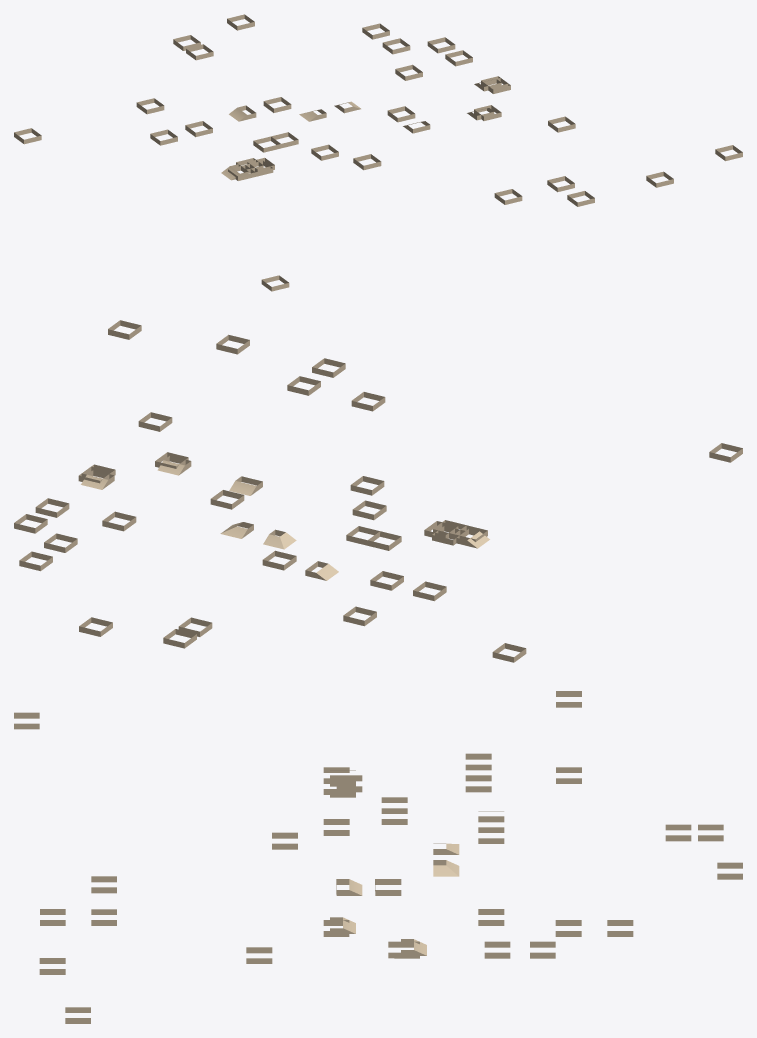
Rendered from object_48_lev1_lev2.glb.
3 renders of one model, top to bottom at view 1: azimuth 30°, elevation 25°; view 2: azimuth 150°, elevation 25°; view 3: azimuth 270°, elevation 25°, orthographic. The views are drawn at different scales.
Visible parts, largest first — view 1: object_48_lev1_lev2; view 2: object_48_lev1_lev2; view 3: object_48_lev1_lev2.
Part boxes in pixels (x1,y1,x2,y2): object_48_lev1_lev2: [14, 14, 742, 291]; object_48_lev1_lev2: [14, 320, 742, 662]; object_48_lev1_lev2: [14, 691, 742, 1023].
Bounding box in the file's own units: 74.4 × 0.6202 × 70.07.
